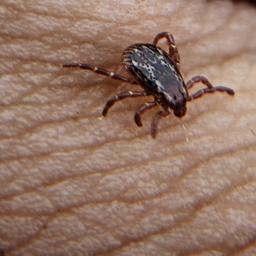Dermacentor variabilis: (60, 30, 235, 138)
